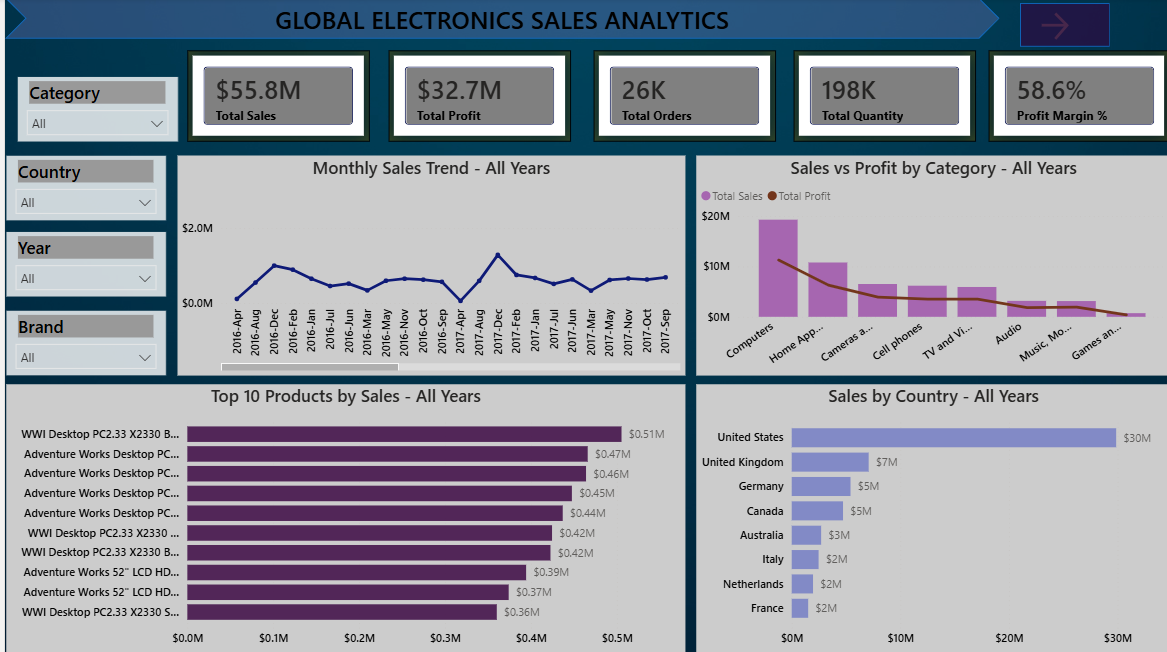

This screenshot's page, from the dashboard's own definition file:
{"tool":"powerbi","page":{"name":"Executive Overview","canvas":[1280,720],"ordinal":0},"visuals":[{"type":"cardVisual","title":"Total Sales","fields":{"Data":["Sales.Total Sales"]},"box":[200.3,57.6,200.3,100.2],"z":0},{"type":"cardVisual","title":"Total Quantity","fields":{"Data":["Sales.Total Quantity"]},"box":[866.2,57.9,200.3,100.1],"z":1000},{"type":"cardVisual","title":"Total profit","fields":{"Data":["Sales.Total Profit"]},"box":[421,57.9,200.3,100.1],"z":2000},{"type":"cardVisual","title":"Total Orders","fields":{"Data":["Sales.Total Orders"]},"box":[646.7,57.9,200.3,100.1],"z":3000},{"type":"cardVisual","title":"Profit Margin","fields":{"Data":["Sales.Profit Margin %"]},"box":[1079.8,57.9,200.3,100.1],"z":4000},{"type":"lineChart","fields":{"Y":["Sales.Total Sales"],"Category":["DateTable.Year Month"]},"box":[189.4,172.5,557.4,241.3],"z":5000},{"type":"lineClusteredColumnComboChart","fields":{"Y2":["Sales.Total Profit"],"Y":["Sales.Total Sales"],"Category":["Products.Category"]},"box":[758.9,172.5,521.2,241.3],"z":6000},{"type":"clusteredBarChart","fields":{"Category":["Products.Product Name"],"Y":["Sales.Total Sales"]},"box":[1.2,423.5,745.6,296.8],"z":7000},{"type":"clusteredBarChart","fields":{"Category":["Customers.Country"],"Y":["Sales.Total Sales"]},"box":[758.9,423.5,521.2,296.8],"z":8000},{"type":"slicer","fields":{"Values":["DateTable.Year"]},"box":[1.2,257,174.9,71.2],"z":9000},{"type":"slicer","fields":{"Values":["Customers.Country"]},"box":[1.2,172.5,174.9,71.2],"z":10000},{"type":"slicer","fields":{"Values":["Products.Category"]},"box":[13.7,86.4,175.6,71.4],"z":11000},{"type":"slicer","fields":{"Values":["Products.Brand"]},"box":[1.2,342.6,174.9,71.2],"z":12000},{"type":"shape","box":[0,0,1091.8,44.6],"z":13000},{"type":"actionButton","box":[1132.1,11,82.3,39.8],"z":13001},{"type":"shape","box":[1114.2,5.5,98.8,48],"z":13002}]}

Visuals, with their boxes in screenshot pixels (x1, y1, x2, y2), scaled from the page's 1280x720 canvas onto the 1167x652 screenshot:
"Total Sales" cardVisual: 183/52/365/143
"Total Quantity" cardVisual: 790/52/972/143
"Total profit" cardVisual: 384/52/566/143
"Total Orders" cardVisual: 590/52/772/143
"Profit Margin" cardVisual: 984/52/1166/143
lineChart - Sales.Total Sales x DateTable.Year Month: 173/156/681/375
lineClusteredColumnComboChart - Sales.Total Profit x Sales.Total Sales: 692/156/1166/375
clusteredBarChart - Products.Product Name x Sales.Total Sales: 1/384/681/651
clusteredBarChart - Customers.Country x Sales.Total Sales: 692/384/1166/651
slicer - DateTable.Year: 1/233/161/297
slicer - Customers.Country: 1/156/161/221
slicer - Products.Category: 12/78/173/143
slicer - Products.Brand: 1/310/161/375
shape: 0/0/995/40
actionButton: 1032/10/1107/46
shape: 1016/5/1106/48
